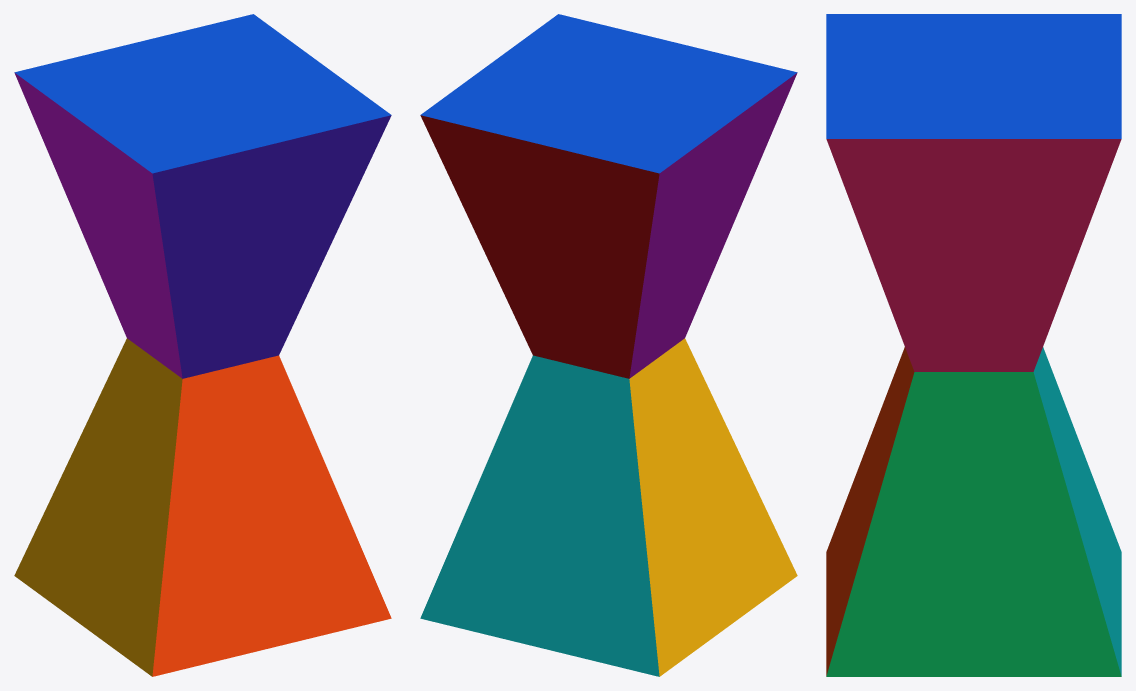
File: prism.glb
3 renders of one model, left to right at view 1: azimuth 30°, elevation 25°; view 2: azimuth 150°, elevation 25°; view 3: azimuth 270°, elevation 25°, orthographic. The views are drawn at different scales.
Visible parts, largest first — view 1: prism_glb; view 2: prism_glb; view 3: prism_glb.
Boxes of the visible parts, x1,y1,x2,y2 form: prism_glb: (14,14,391,676); prism_glb: (420,14,797,676); prism_glb: (826,14,1121,676).
Size of the model in its own units: 0.9898 by 1.99 by 0.9898.
1 material, 1 textured.
